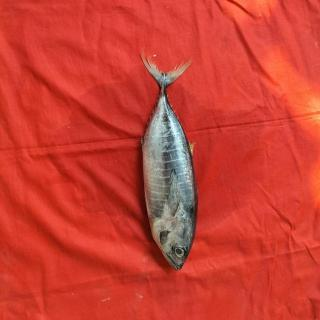Ikan: (130, 47, 214, 276)
